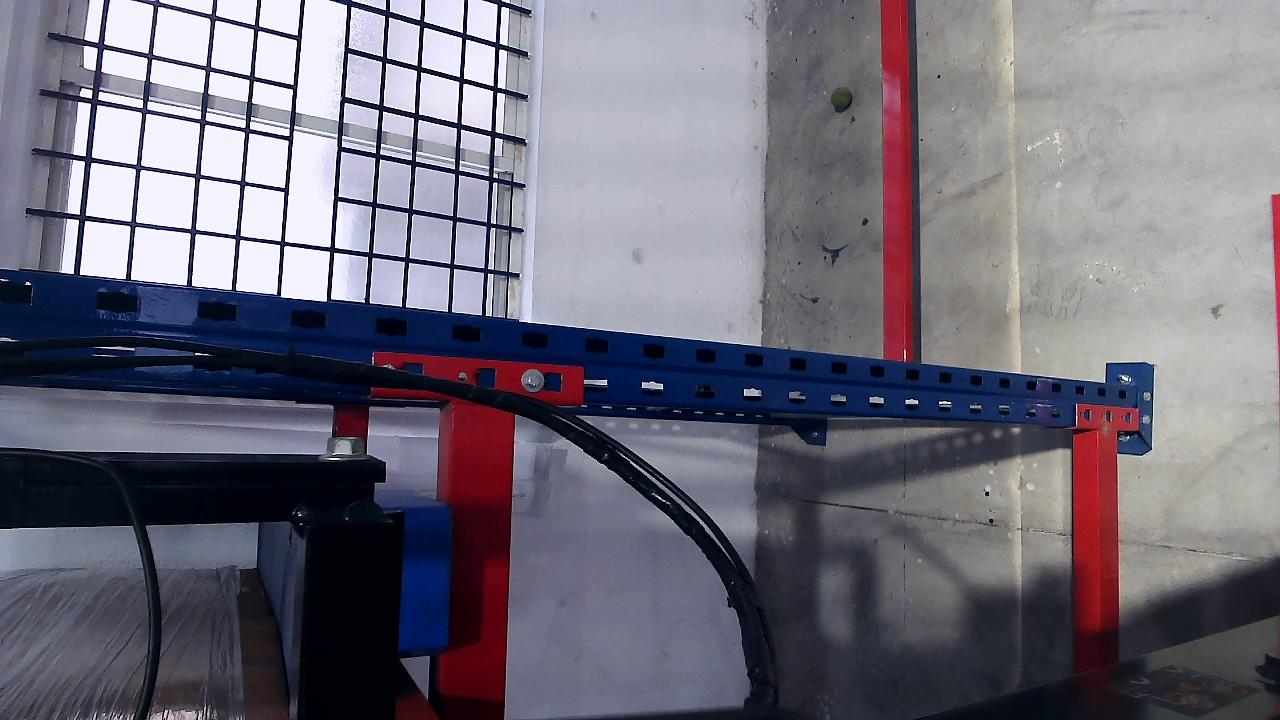h_rack: (463, 359, 517, 707), (1074, 430, 1111, 627)
